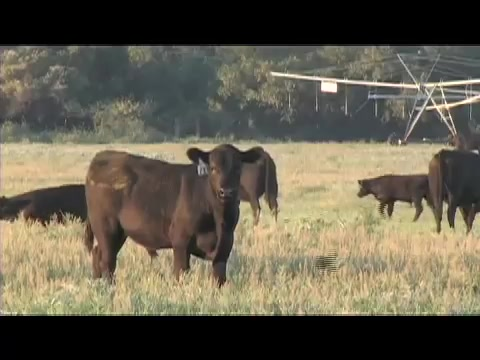cow: (82, 146, 265, 285), (426, 149, 480, 234), (235, 147, 281, 228), (356, 174, 433, 221), (1, 184, 89, 225), (453, 130, 480, 152)
